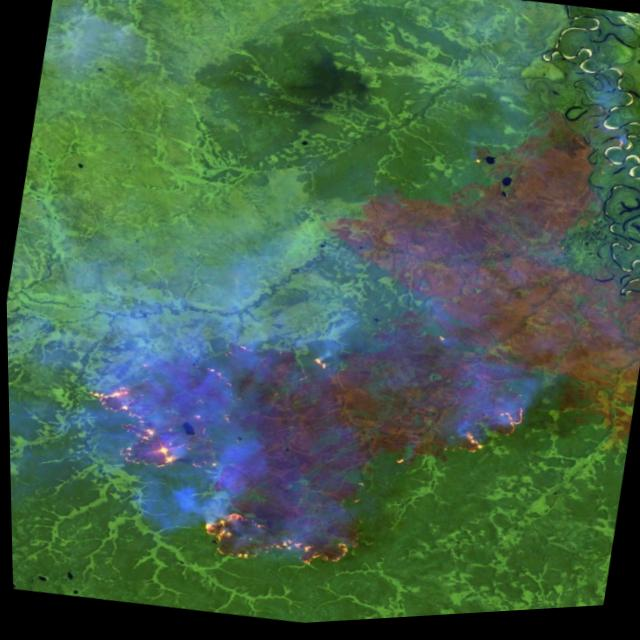fire: (39, 288, 543, 621)
